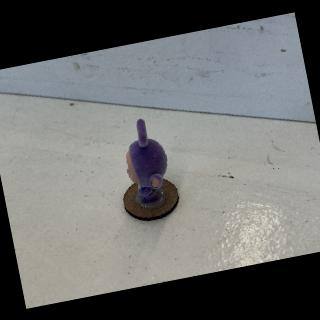teletubby: (126, 118, 167, 202)
